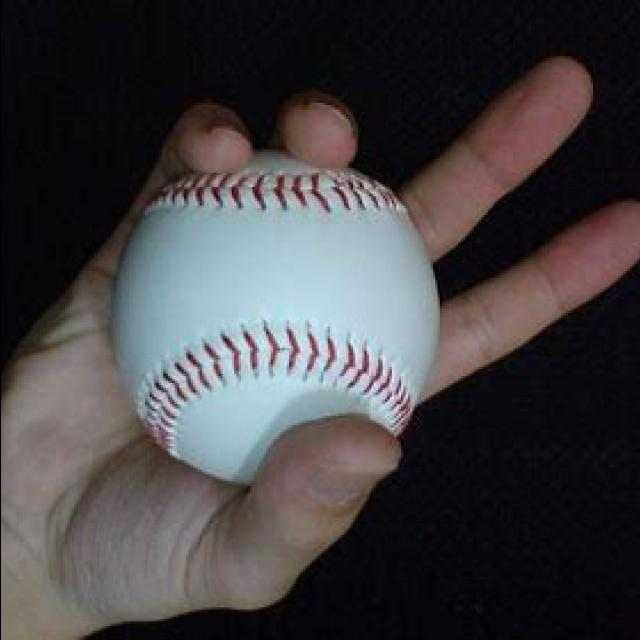ball: (107, 147, 445, 493)
